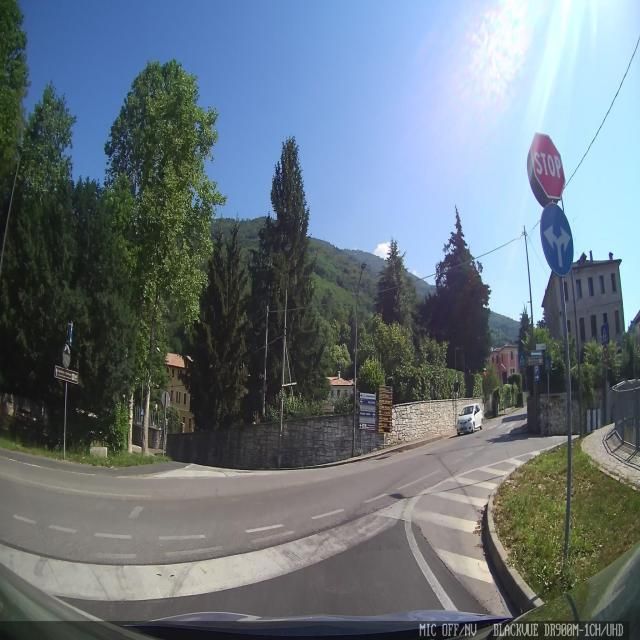car: (456, 404, 484, 436)
